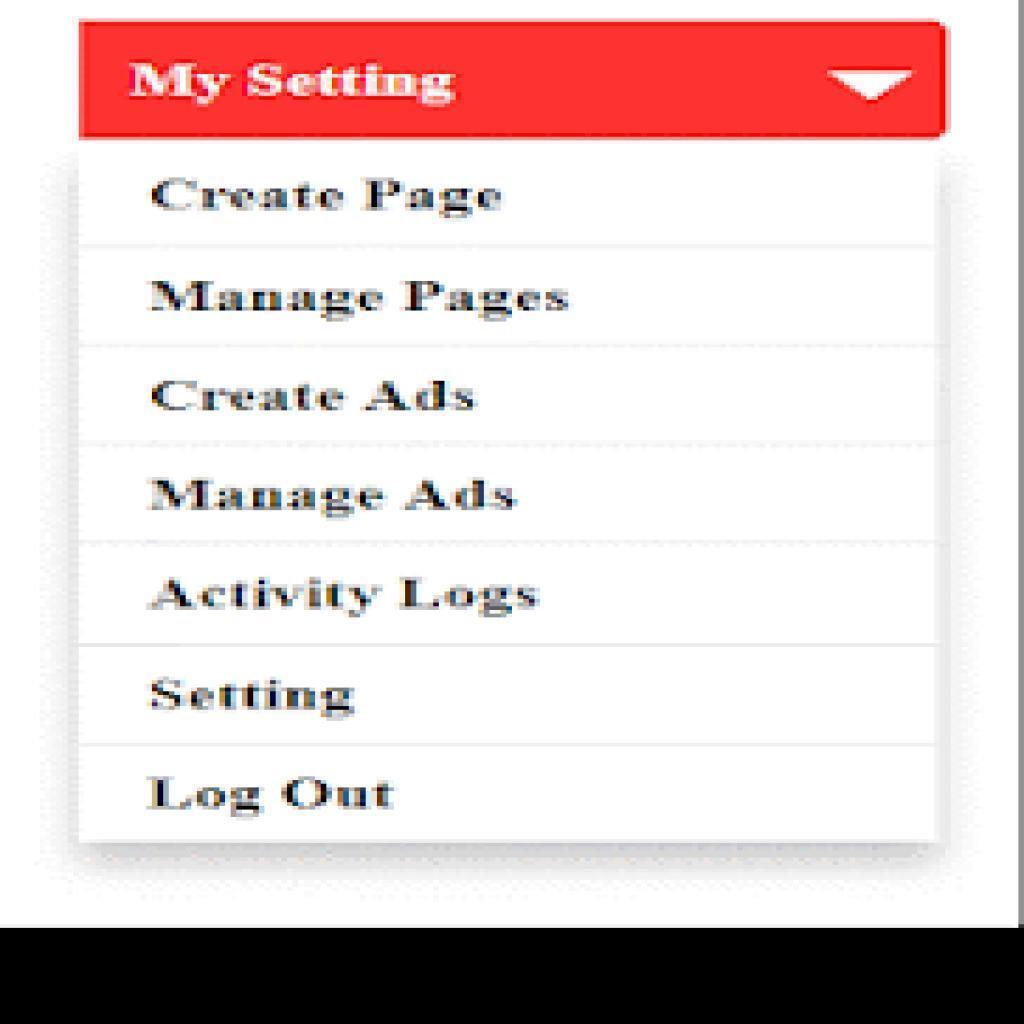dropdown: (80, 26, 947, 136)
